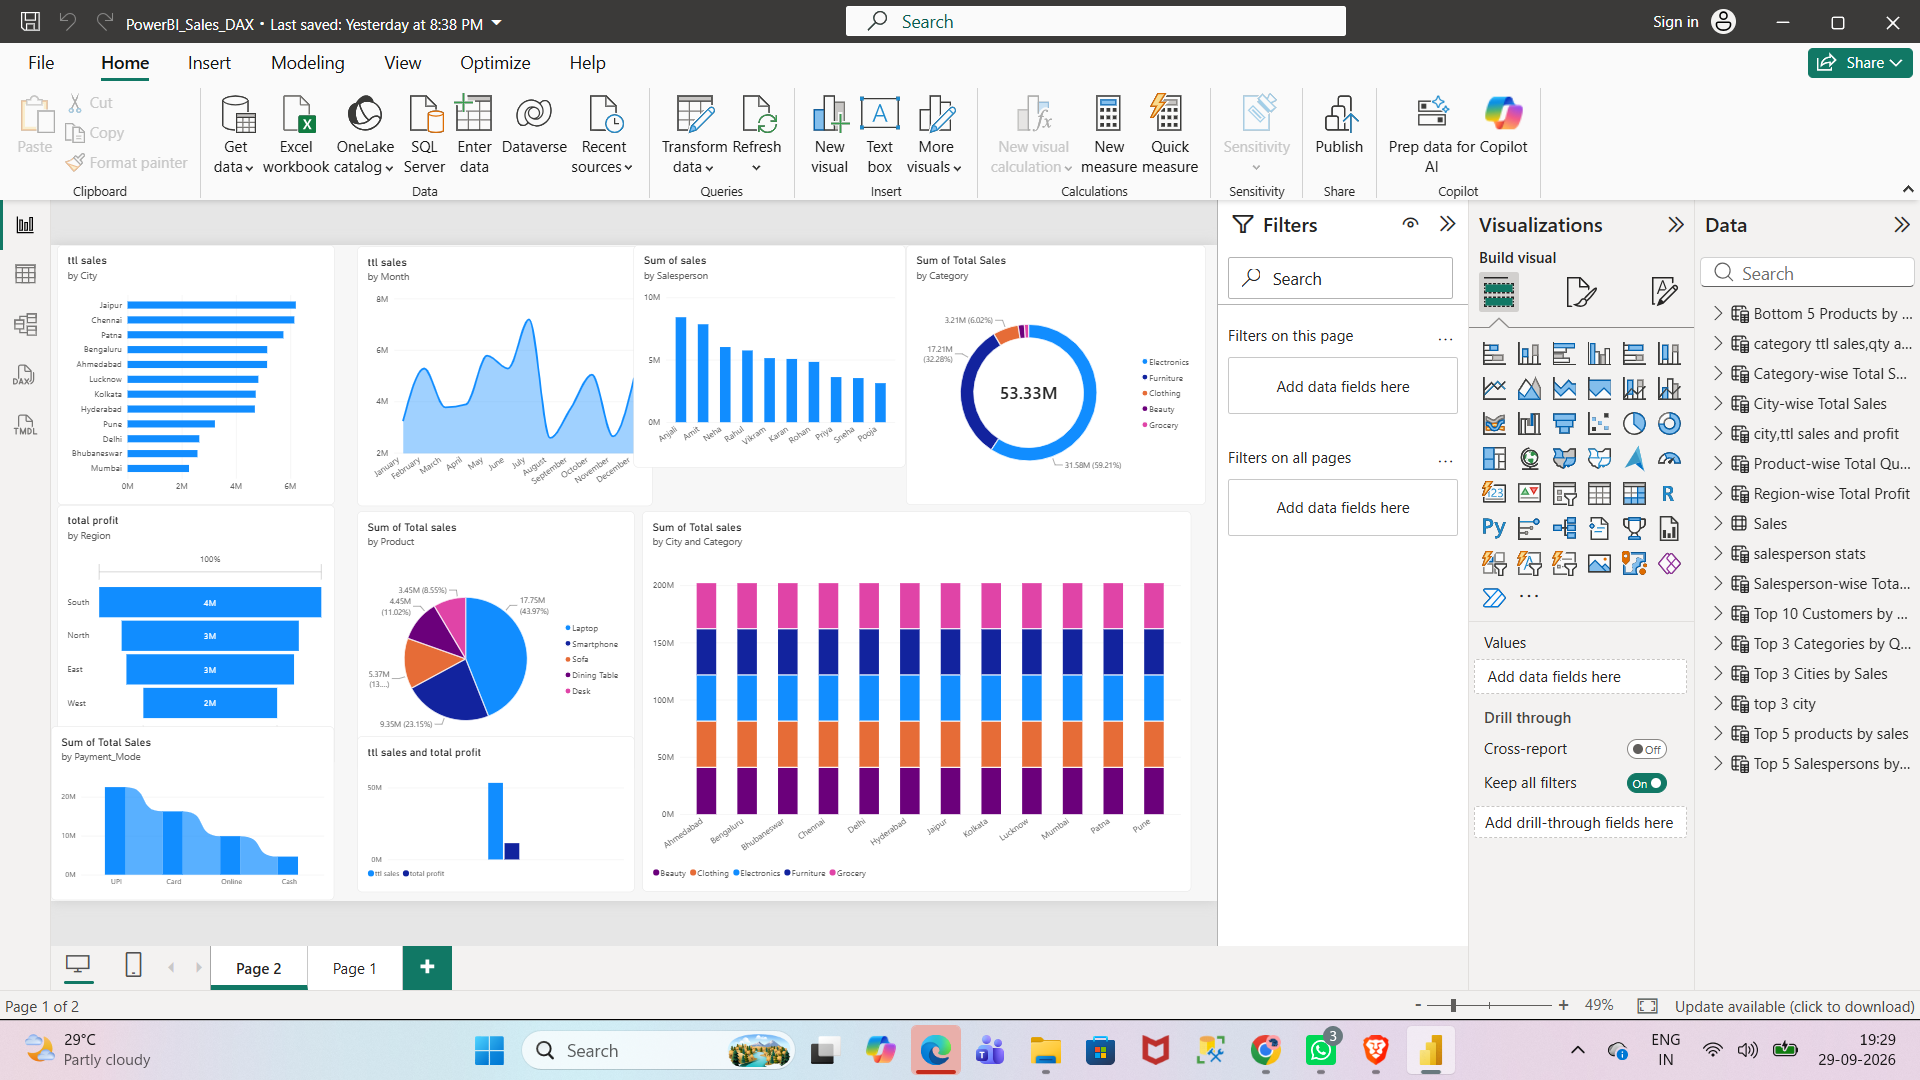

The dashboard page shown, as its layout file describes it:
{"tool":"powerbi","page":{"name":"Page 2","canvas":[1920,1080],"ordinal":0},"visuals":[{"type":"barChart","fields":{"Category":["Sales.City"],"Y":["Sales.ttl sales"]},"box":[10,0,456.7,428.3],"z":0},{"type":"stackedAreaChart","fields":{"Category":["Sales.Order_Date.Variation.Date Hierarchy.Year","Sales.Order_Date.Variation.Date Hierarchy.Quarter","Sales.Order_Date.Variation.Date Hierarchy.Month","Sales.Order_Date.Variation.Date Hierarchy.Day"],"Y":["Sales.ttl sales"]},"box":[503.3,1.7,486.7,428.3],"z":1000},{"type":"donutChart","fields":{"Category":["Sales.Category"],"Y":["Sum(Sales.Total Sales)"]},"box":[1408,0,493.3,428.3],"z":2000},{"type":"funnel","fields":{"Category":["Sales.Region"],"Y":["Sales.total profit"]},"box":[10,428.3,457,428],"z":3000},{"type":"pieChart","fields":{"Category":["Top 5 products by sales.Product"],"Y":["Sum(Top 5 products by sales.Total sales)"]},"box":[503.3,438.3,456.7,428.3],"z":4000},{"type":"clusteredColumnChart","fields":{"Category":["salesperson stats.Salesperson"],"Y":["Sum(salesperson stats.sales)"]},"box":[960,0,448,366],"z":5000},{"type":"ribbonChart","fields":{"Category":["Sales.Payment_Mode"],"Y":["Sum(Sales.Total Sales)"]},"box":[0,793.3,466.7,286.7],"z":6000},{"type":"lineClusteredColumnComboChart","fields":{"Y":["Sales.ttl sales","Sales.total profit"]},"box":[503.3,808.3,456.7,256.7],"z":7000},{"type":"columnChart","fields":{"Category":["Sales.City"],"Series":["Sales.Category"],"Y":["Sum(Top 5 products by sales.Total sales)"]},"box":[974,438,904,626],"z":8000}]}

Visuals, with their boxes on the page's 1920x1080 design canvas (x1, y1, x2, y2). These are canvas units, not pixel positions in the 1920x1080 screenshot, which may show the page scaled, cropped or inside an application window:
barChart - Sales.City x Sales.ttl sales: 10 0 467 428
stackedAreaChart - Sales.Order_Date.Variation.Date Hierarchy.Year x Sales.Order_Date.Variation.Date Hierarchy.Quarter: 503 2 990 430
donutChart - Sales.Category x Sum(Sales.Total Sales): 1408 0 1901 428
funnel - Sales.Region x Sales.total profit: 10 428 467 856
pieChart - Top 5 products by sales.Product x Sum(Top 5 products by sales.Total sales): 503 438 960 867
clusteredColumnChart - salesperson stats.Salesperson x Sum(salesperson stats.sales): 960 0 1408 366
ribbonChart - Sales.Payment_Mode x Sum(Sales.Total Sales): 0 793 467 1080
lineClusteredColumnComboChart - Sales.ttl sales x Sales.total profit: 503 808 960 1065
columnChart - Sales.City x Sales.Category: 974 438 1878 1064
